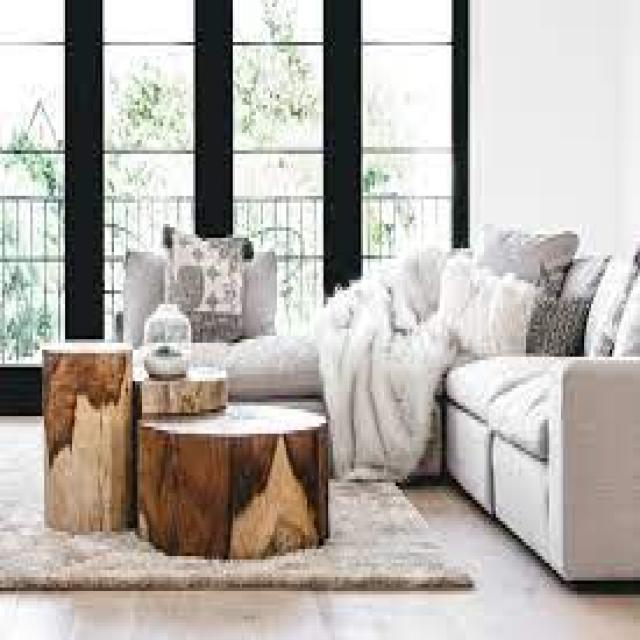Sofa: (395, 203, 640, 598), (109, 220, 484, 462)
Table: (25, 317, 322, 557)
